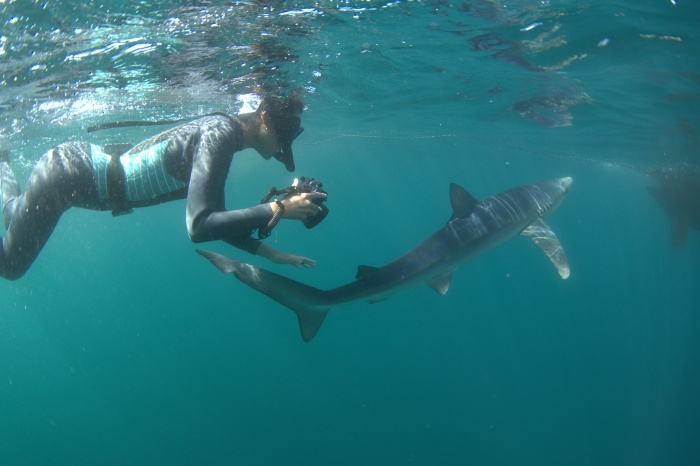Azul: (188, 169, 615, 365)
